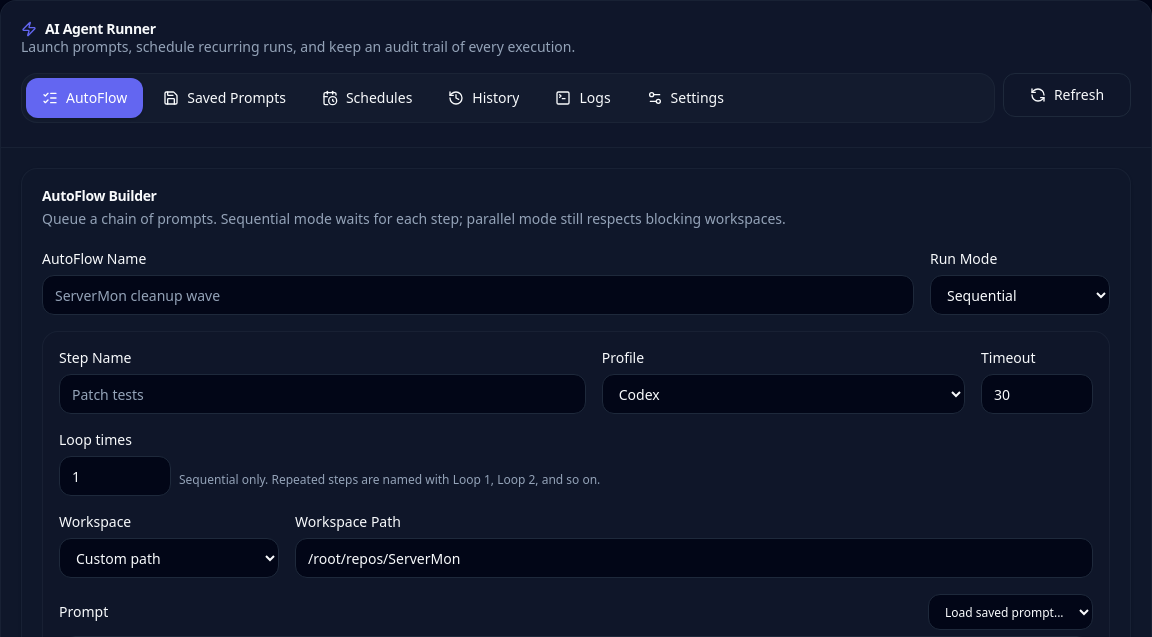
Test: AIRunnerPage › keeps the prompts tab focused on a single library surface
Expected: the heading "AI Agent Runner" is shown, [21,19,156,38]
Click the tab "Saved Prompts" at (225, 98), box [147,78,302,118]
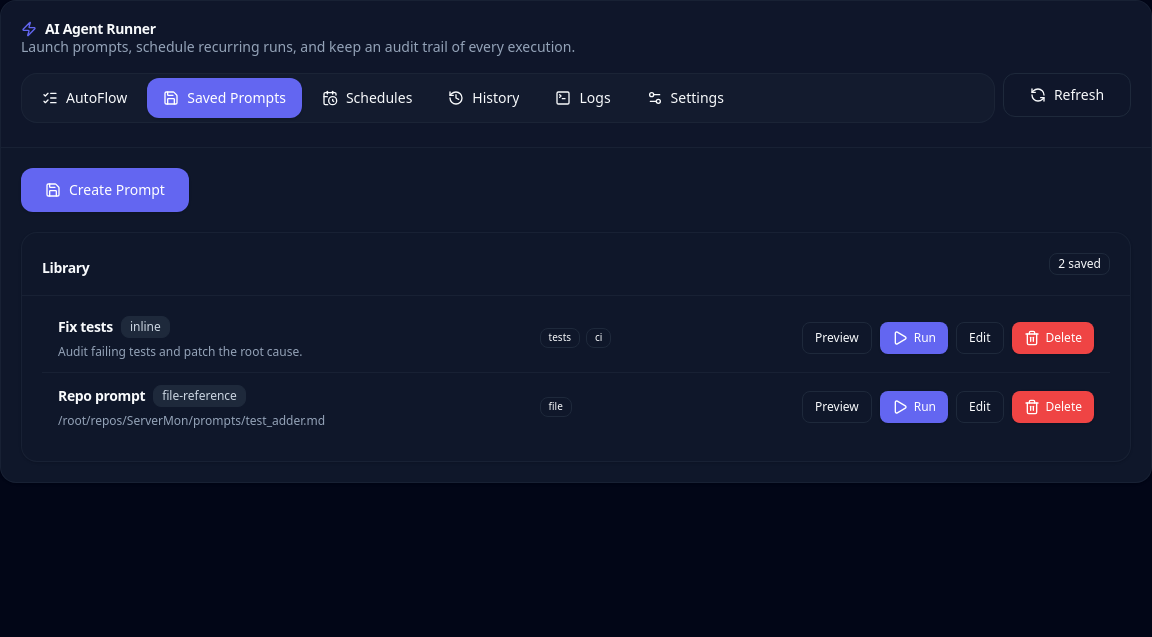
Expected: the button "Create Prompt" is shown, [21,168,189,212]
Expected: the heading "Library" is shown, [42,261,90,275]
